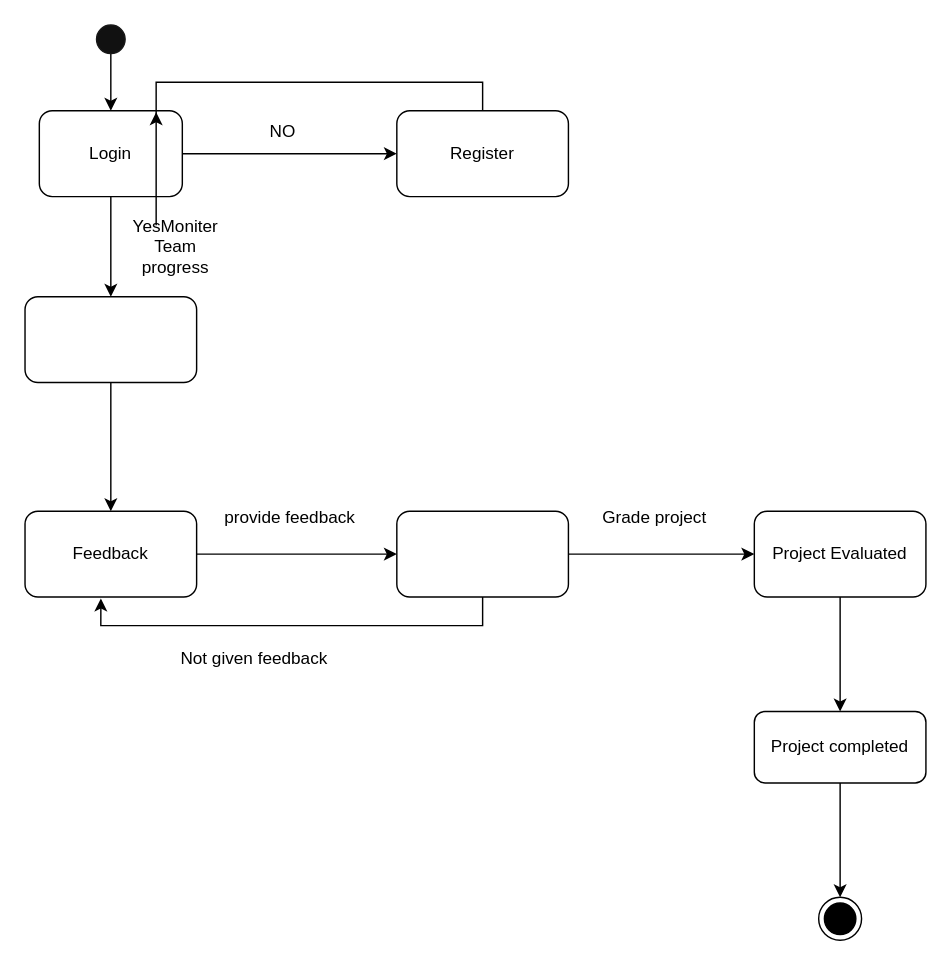
Some shapes in this 951 by 977 pixel diagram are drawn without their labels. Here are the shapes that lost their labels. From the top down, the centre of each, then its label:
At pixel 110 339: "Progress Monitering".
At pixel 481 553: "feedback given".
